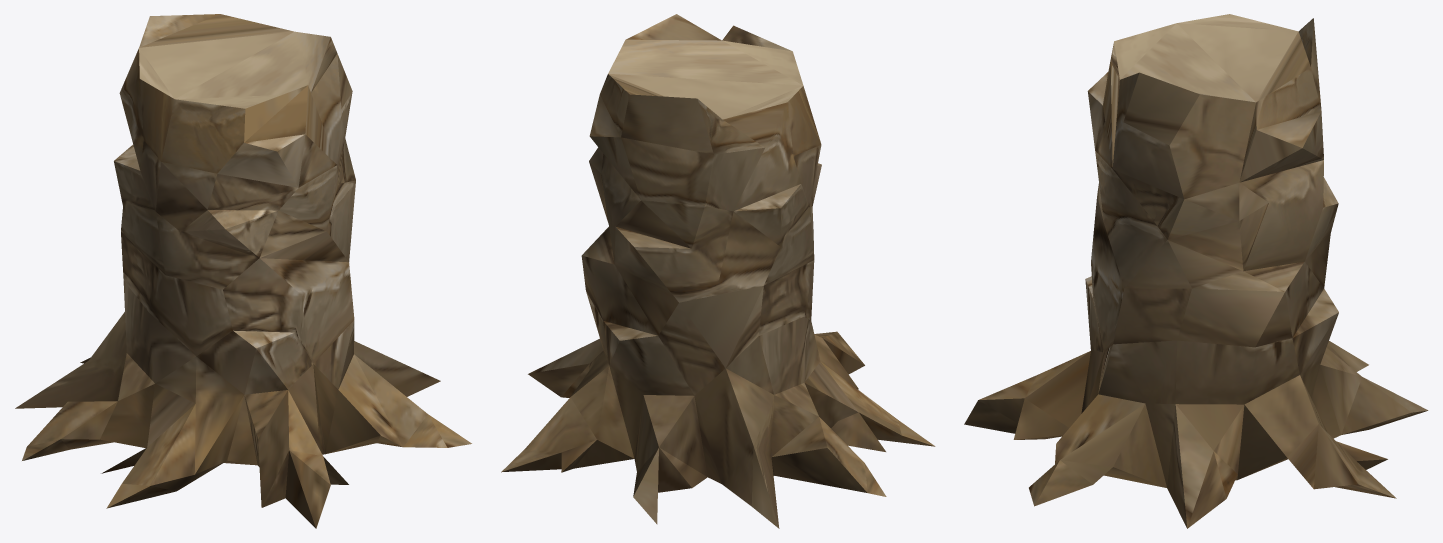
The model's file is stump.glb.
3 renders of one model, left to right at view 1: azimuth 30°, elevation 25°; view 2: azimuth 150°, elevation 25°; view 3: azimuth 270°, elevation 25°, orthographic. The views are drawn at different scales.
Parts seen in each view (by area): view 1: palm; view 2: palm; view 3: palm.
Part boxes in pixels (x1,y1,x2,y2): palm: [15, 14, 471, 528]; palm: [501, 14, 935, 528]; palm: [964, 14, 1428, 528].
Bounding box in the file's own units: 0.9099 × 0.8762 × 0.8996.
1 material, 1 textured.
